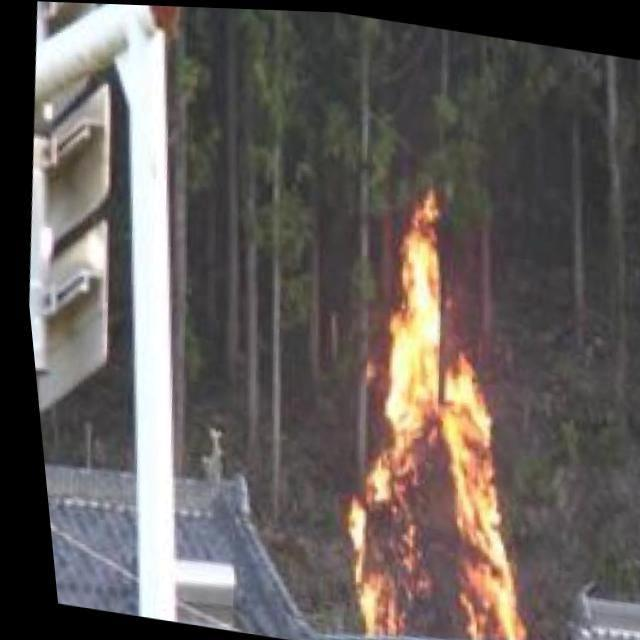fire: (304, 200, 564, 640)
